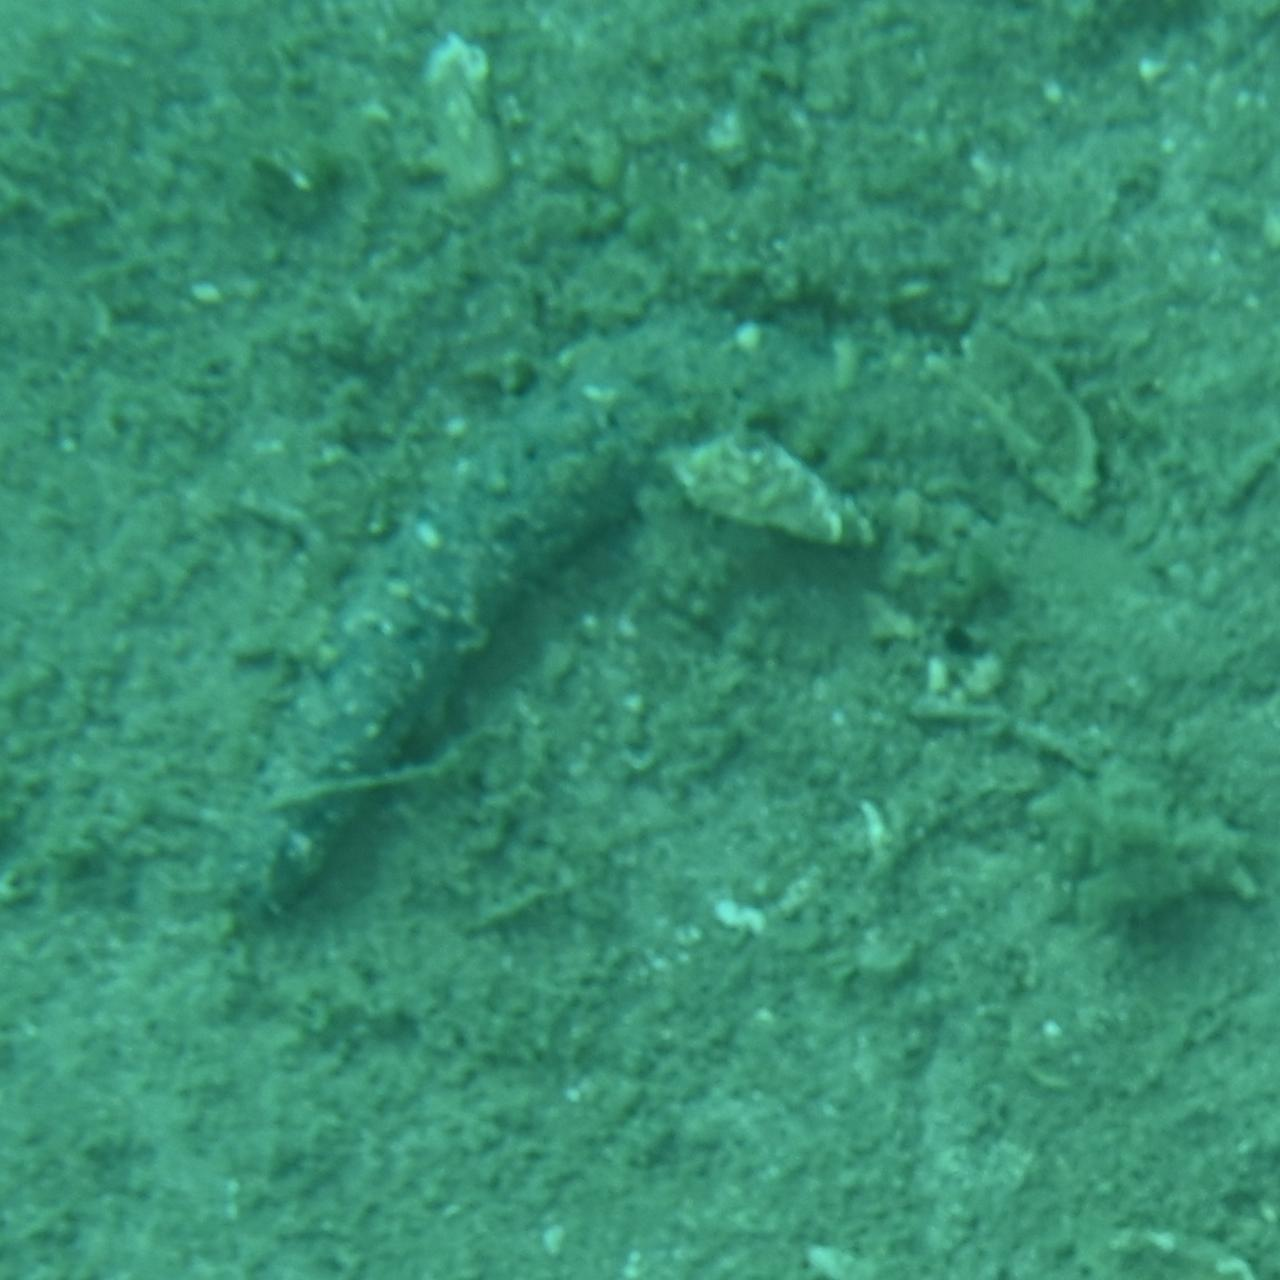Holothuria tubulosa: (274, 318, 1006, 962)
